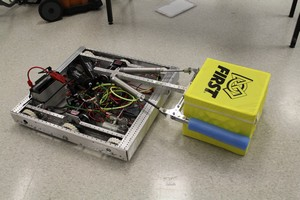cube: (183, 58, 270, 155)
